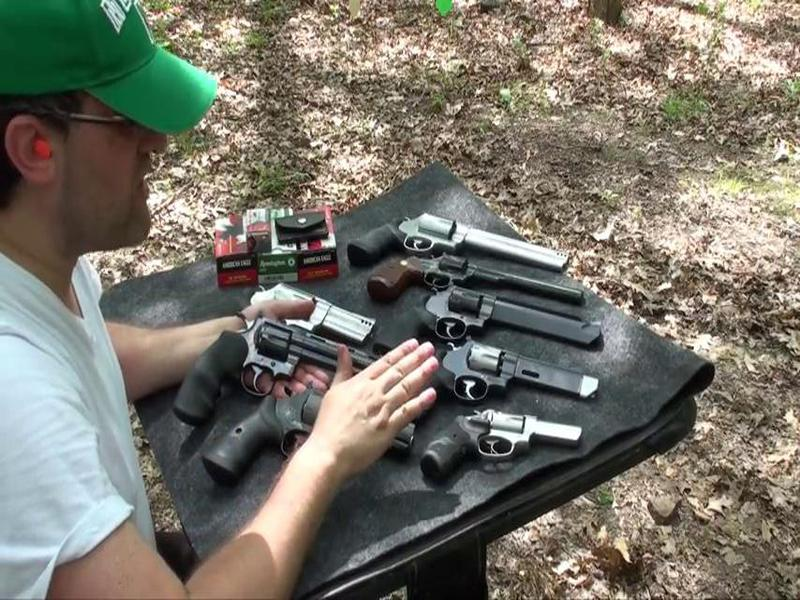Revolver: (170, 302, 388, 438)
